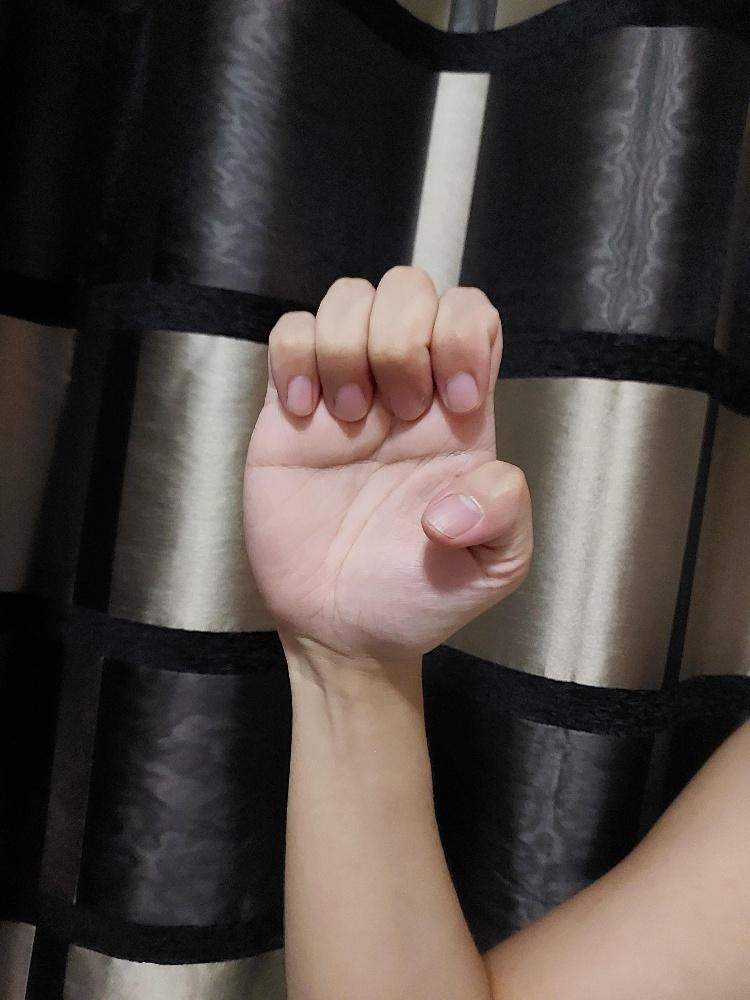e: (239, 261, 536, 662)
